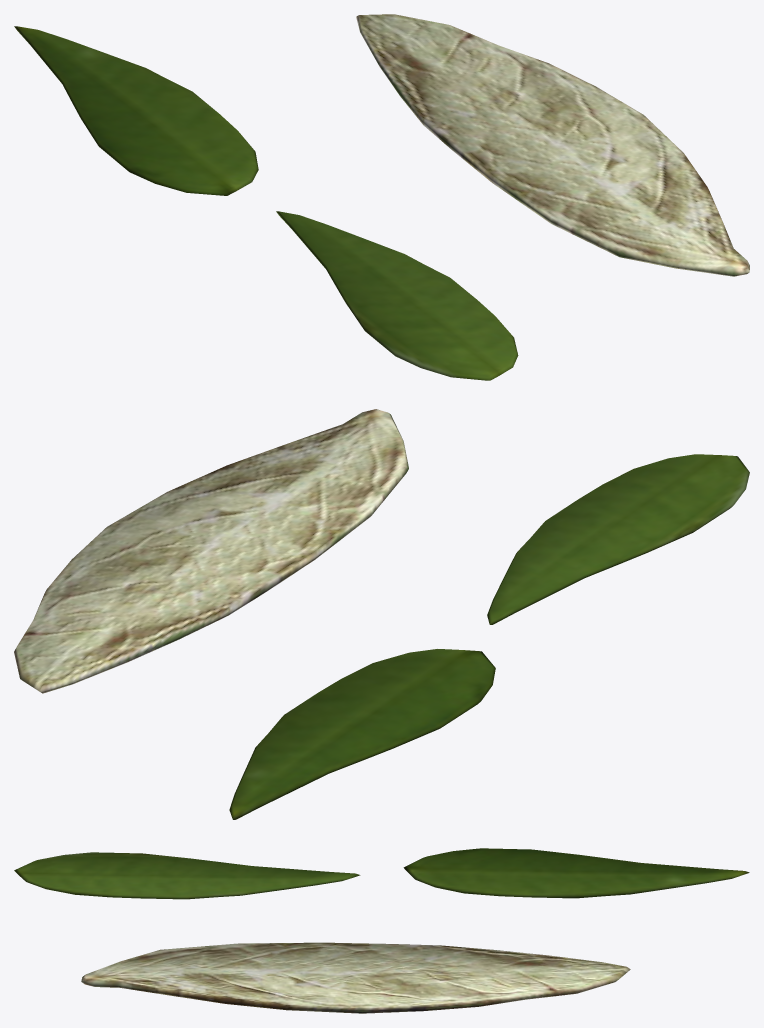
Rendered from panxieye.FBX.
3 views of the same model, one above another, from view 1: azimuth 30°, elevation 25°; view 2: azimuth 150°, elevation 25°; view 3: azimuth 270°, elevation 25° (orthographic). The views are drawn at different scales.
Parts seen in each view (by area): view 1: Line001, Line002, Line003; view 2: Line001, Line002, Line003; view 3: Line001, Line002, Line003.
Boxes of the visible parts, x1,y1,x2,y2 form: Line001: (356, 14, 749, 276); Line002: (14, 26, 258, 195); Line003: (276, 211, 518, 380); Line001: (14, 409, 408, 693); Line002: (229, 649, 495, 819); Line003: (487, 454, 749, 624); Line001: (81, 942, 630, 1013); Line002: (403, 848, 749, 898); Line003: (14, 852, 360, 899).
Size of the model in its own units: 32.53 by 0.561 by 61.82.
1 material, 1 textured.
